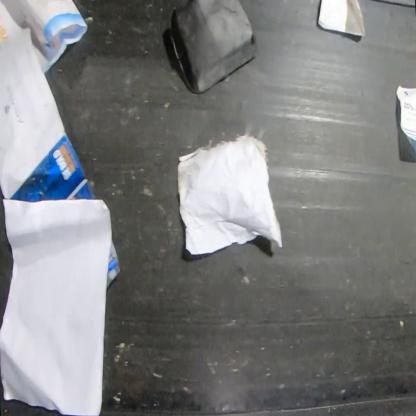rigid_plastic: (168, 0, 260, 95)
